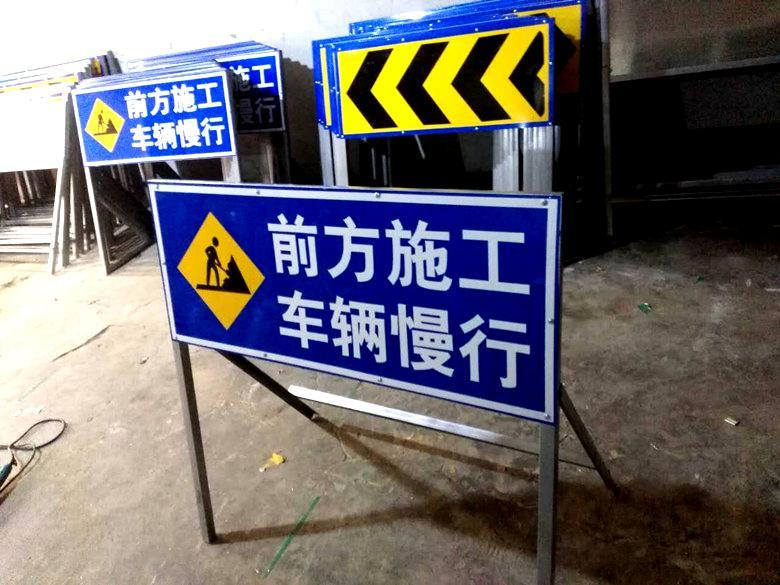sign: (148, 179, 554, 415), (77, 78, 241, 167)
